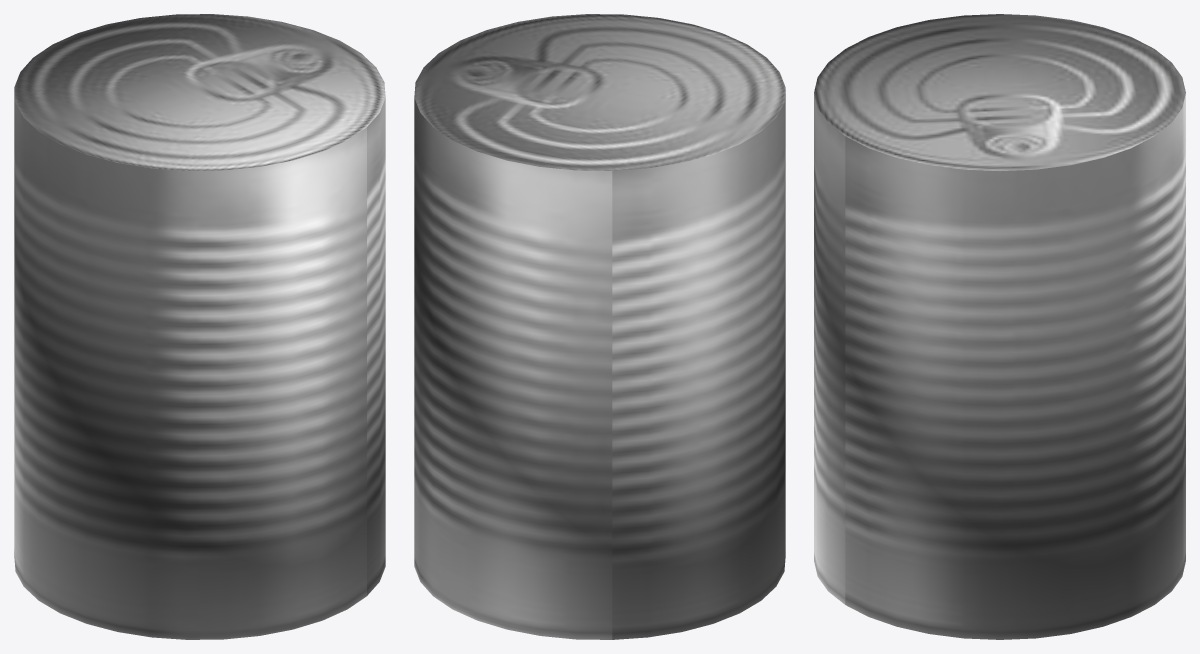
File: Canned.fbx
3 views of the same model, side by side, from view 1: azimuth 30°, elevation 25°; view 2: azimuth 150°, elevation 25°; view 3: azimuth 270°, elevation 25° (orthographic).
Parts seen in each view (by area): view 1: Canned; view 2: Canned; view 3: Canned.
Boxes of the visible parts, x1,y1,x2,y2 form: Canned: (14,14,385,639); Canned: (414,14,785,639); Canned: (814,14,1185,639).
Bounding box in the file's own units: 200 × 278 × 200.
1 material, 1 textured.
